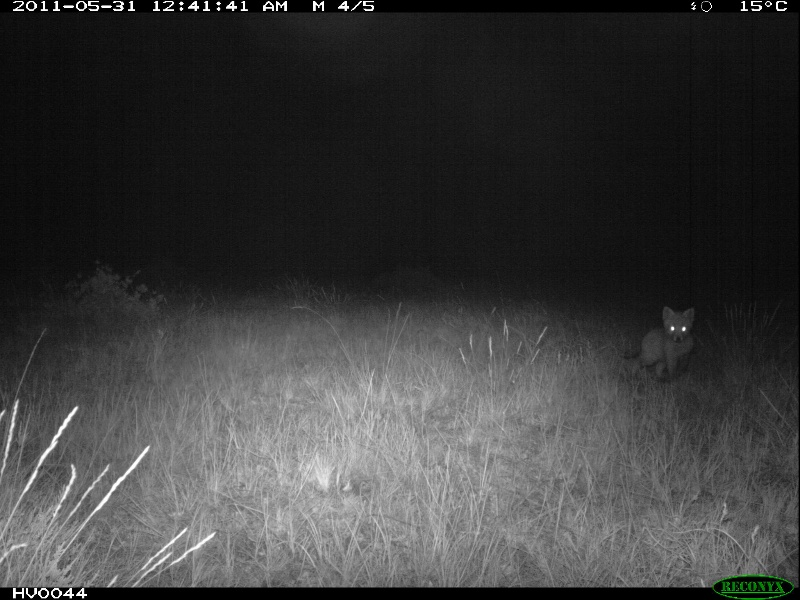fox: (624, 301, 701, 382)
